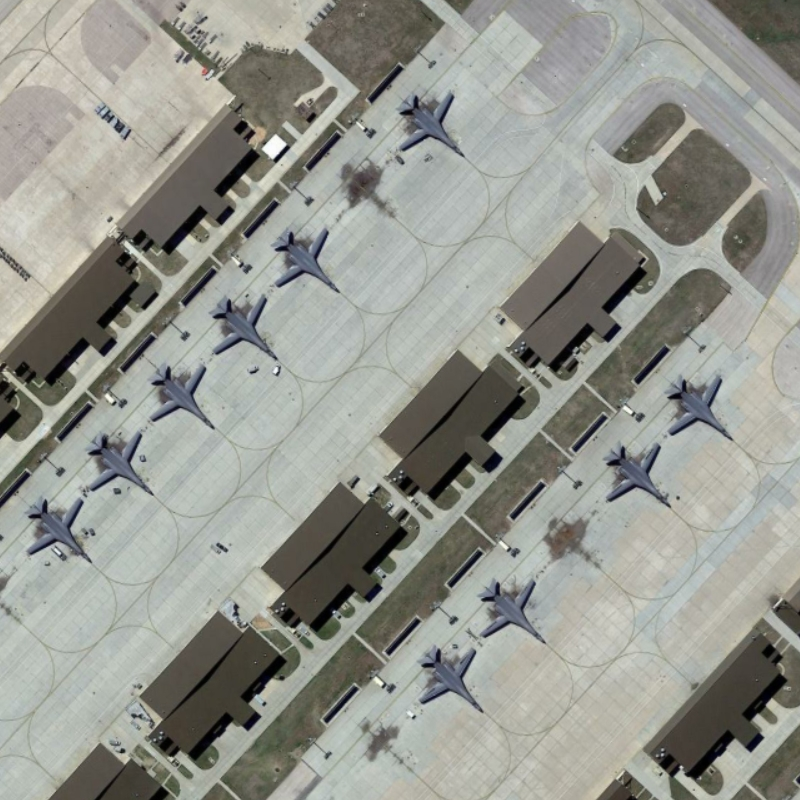A10: (659, 366, 742, 447), (22, 492, 103, 571), (472, 572, 551, 653), (265, 222, 351, 296), (597, 435, 679, 511), (414, 641, 490, 721), (143, 358, 221, 434), (206, 289, 283, 363), (84, 429, 158, 500), (395, 91, 465, 158)
